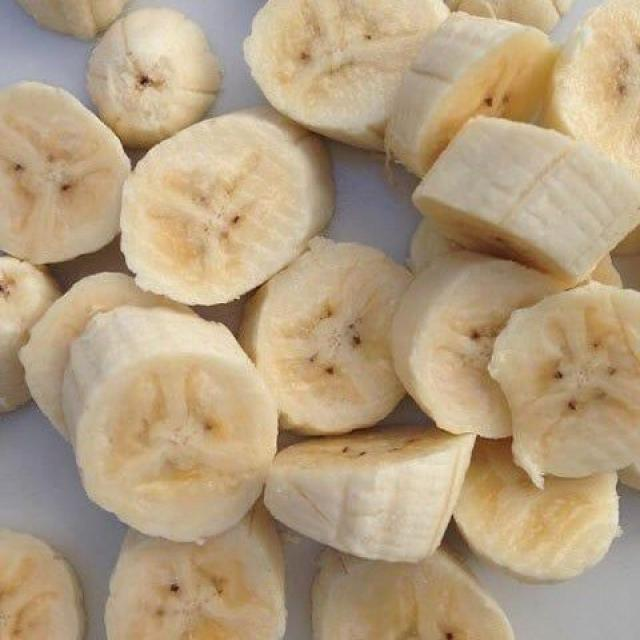banana slice: (63, 308, 277, 542), (122, 108, 334, 304), (414, 117, 639, 283), (240, 238, 410, 434), (392, 252, 563, 438), (244, 0, 449, 150), (490, 283, 639, 486), (264, 426, 474, 562), (386, 14, 557, 176), (20, 274, 187, 437), (106, 506, 285, 639), (0, 83, 130, 263), (455, 441, 618, 582), (87, 9, 221, 148), (312, 549, 513, 639), (544, 0, 639, 179), (0, 256, 59, 414), (0, 530, 85, 639), (18, 0, 129, 39), (447, 0, 573, 32), (407, 215, 463, 274), (407, 215, 462, 274), (590, 256, 622, 288), (619, 464, 639, 490)
